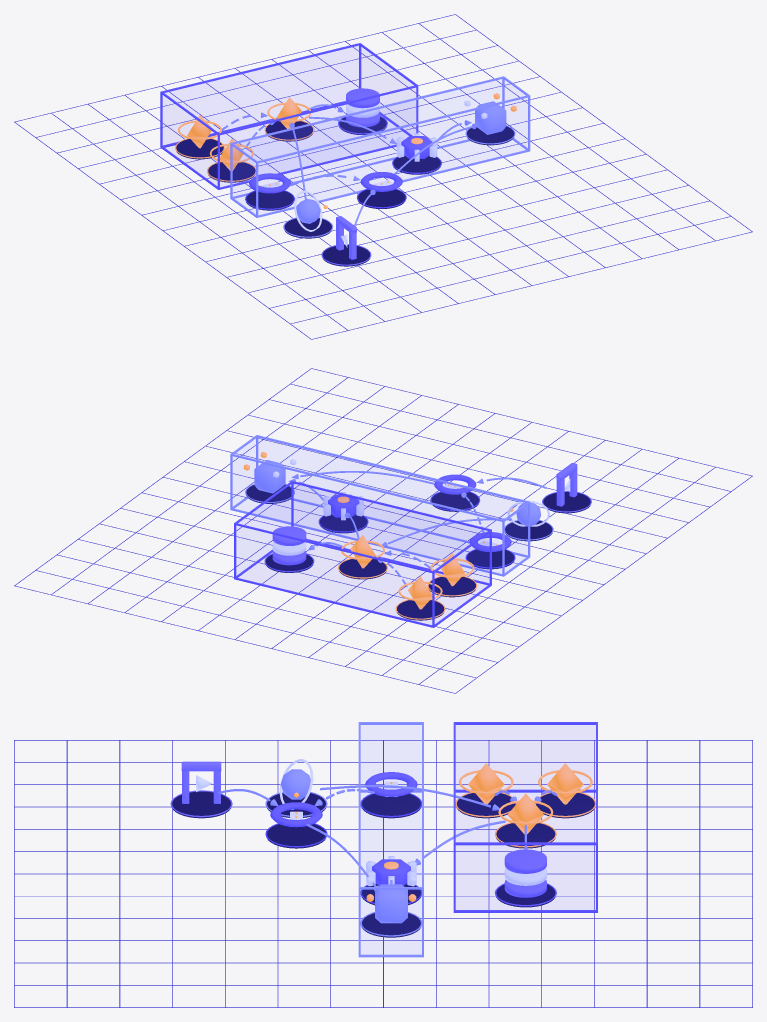
File: kubernetes-okd.glb
3 views of the same model, one above another, from view 1: azimuth 30°, elevation 25°; view 2: azimuth 150°, elevation 25°; view 3: azimuth 270°, elevation 25° (orthographic). The views are drawn at different scales.
Parts seen in each view (by area): view 1: floor, group_Worker_node, group_Control_plane, mesh_pods_core, mesh_kproxy_pad, mesh_svc_pad, mesh_route_pad, mesh_user_pad, mesh_cm_pad, mesh_sched_pad, mesh_kubelet_pad, mesh_api_pad (+1 smaller); view 2: floor, group_Worker_node, group_Control_plane, mesh_pods_core, mesh_api_pad, mesh_sched_pad, mesh_route_pad, mesh_cm_pad, mesh_kproxy_pad, mesh_user_pad, mesh_kubelet_pad, mesh_svc_pad; view 3: floor, group_Control_plane, group_Worker_node, mesh_pods_core, mesh_kproxy_pad, mesh_route_pad, mesh_svc_pad, mesh_sched_pad, mesh_api_pad, mesh_cm_pad, mesh_pods_pad, mesh_etcd_disc2 (+12 smaller).
Part boxes in pixels (left/top/right/bottom): floor: left=14, top=14, right=752, bottom=339; group_Worker_node: left=230, top=76, right=530, bottom=217; group_Control_plane: left=160, top=43, right=418, bottom=189; mesh_pods_core: left=475, top=101, right=506, bottom=134; mesh_kproxy_pad: left=246, top=191, right=293, bottom=210; mesh_svc_pad: left=358, top=189, right=405, bottom=208; mesh_route_pad: left=322, top=245, right=370, bottom=266; mesh_user_pad: left=284, top=218, right=331, bottom=238; mesh_cm_pad: left=208, top=162, right=255, bottom=182; mesh_sched_pad: left=176, top=139, right=223, bottom=159; mesh_kubelet_pad: left=393, top=155, right=440, bottom=174; mesh_api_pad: left=265, top=121, right=313, bottom=141; floor: left=14, top=368, right=752, bottom=693; group_Worker_node: left=230, top=435, right=530, bottom=576; group_Control_plane: left=234, top=481, right=491, bottom=627; mesh_pods_core: left=254, top=460, right=285, bottom=493; mesh_api_pad: left=339, top=559, right=386, bottom=579; mesh_sched_pad: left=396, top=600, right=444, bottom=620; mesh_route_pad: left=543, top=491, right=590, bottom=513; mesh_cm_pad: left=428, top=577, right=475, bottom=597; mesh_kproxy_pad: left=467, top=549, right=514, bottom=569; mesh_user_pad: left=505, top=521, right=552, bottom=541; mesh_kubelet_pad: left=320, top=514, right=367, bottom=533; mesh_svc_pad: left=431, top=492, right=478, bottom=511; floor: left=14, top=740, right=752, bottom=1007; group_Control_plane: left=453, top=722, right=597, bottom=912; group_Worker_node: left=358, top=722, right=423, bottom=957; mesh_pods_core: left=375, top=884, right=407, bottom=923; mesh_kproxy_pad: left=362, top=794, right=421, bottom=818; mesh_route_pad: left=171, top=791, right=230, bottom=818; mesh_svc_pad: left=267, top=824, right=325, bottom=848; mesh_sched_pad: left=536, top=793, right=595, bottom=818; mesh_api_pad: left=496, top=823, right=555, bottom=848; mesh_cm_pad: left=456, top=793, right=515, bottom=818; mesh_pods_pad: left=361, top=913, right=420, bottom=937; mesh_etcd_disc2: left=504, top=849, right=546, bottom=873.
Bounding box in the file's own units: 24.03 × 2.91 × 28.03.
